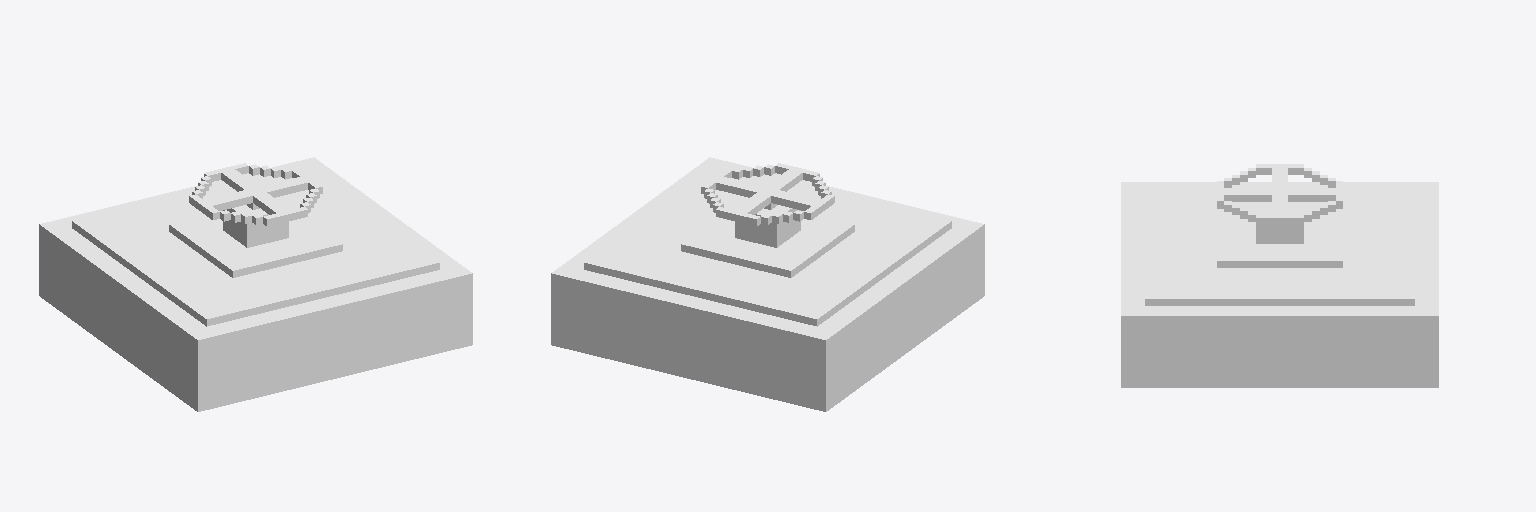
Rendered from TuttorialVault.obj.
3 renders of one model, left to right at view 1: azimuth 30°, elevation 25°; view 2: azimuth 150°, elevation 25°; view 3: azimuth 270°, elevation 25°, orthographic.
Parts seen in each view (by area): view 1: object 1; view 2: object 1; view 3: object 1.
Boxes of the visible parts, x1,y1,x2,y2 form: object 1: [39, 157, 472, 411]; object 1: [551, 157, 984, 411]; object 1: [1121, 164, 1438, 387].
Bounding box in the file's own units: 4 × 1.8 × 4.